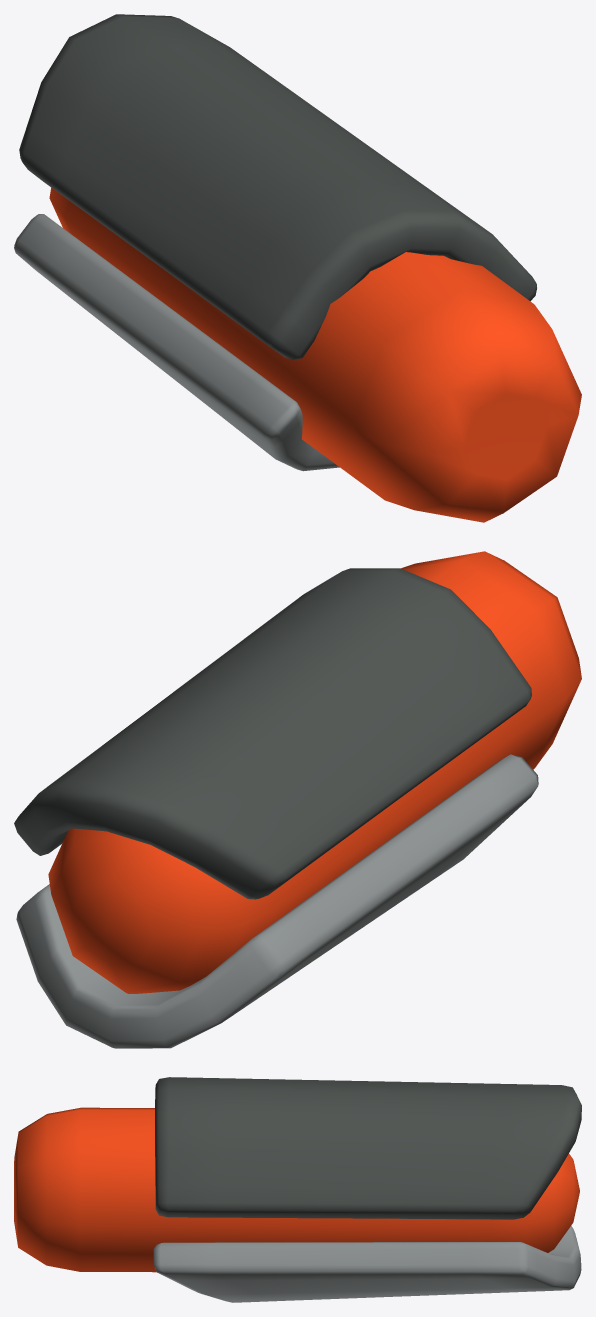
Rendered from xsens_LeftFourthPP.dae.
3 renders of one model, top to bottom at view 1: azimuth 30°, elevation 25°; view 2: azimuth 150°, elevation 25°; view 3: azimuth 270°, elevation 25°, orthographic. The views are drawn at different scales.
Visible parts, largest first — view 1: LeftFourthPP; view 2: LeftFourthPP; view 3: LeftFourthPP.
Part boxes in pixels (left/top/right/bottom): LeftFourthPP: left=14, top=14, right=581, bottom=522; LeftFourthPP: left=14, top=551, right=581, bottom=1048; LeftFourthPP: left=14, top=1077, right=581, bottom=1302.
Bounding box in the file's own units: 0.0189 × 0.0475 × 0.0189.
